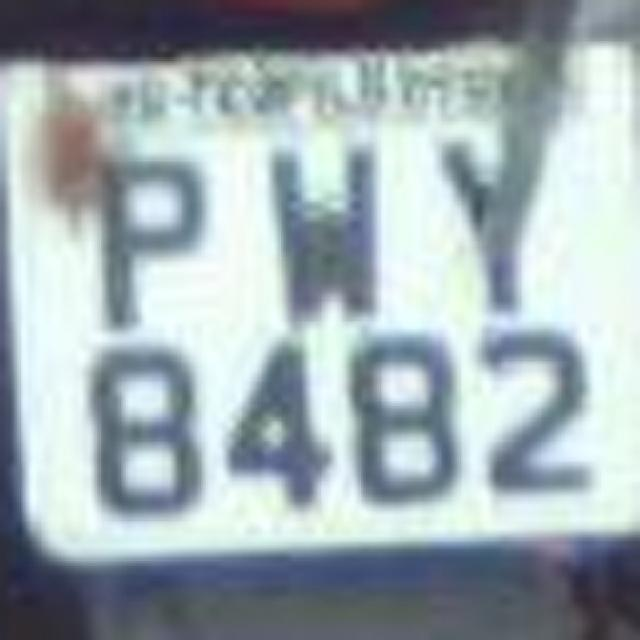2: (452, 316, 612, 516)
4: (208, 316, 332, 524)
8: (72, 320, 216, 528), (340, 320, 468, 520)
P: (80, 148, 215, 332)
W: (249, 140, 396, 332)
Y: (420, 111, 555, 324)
